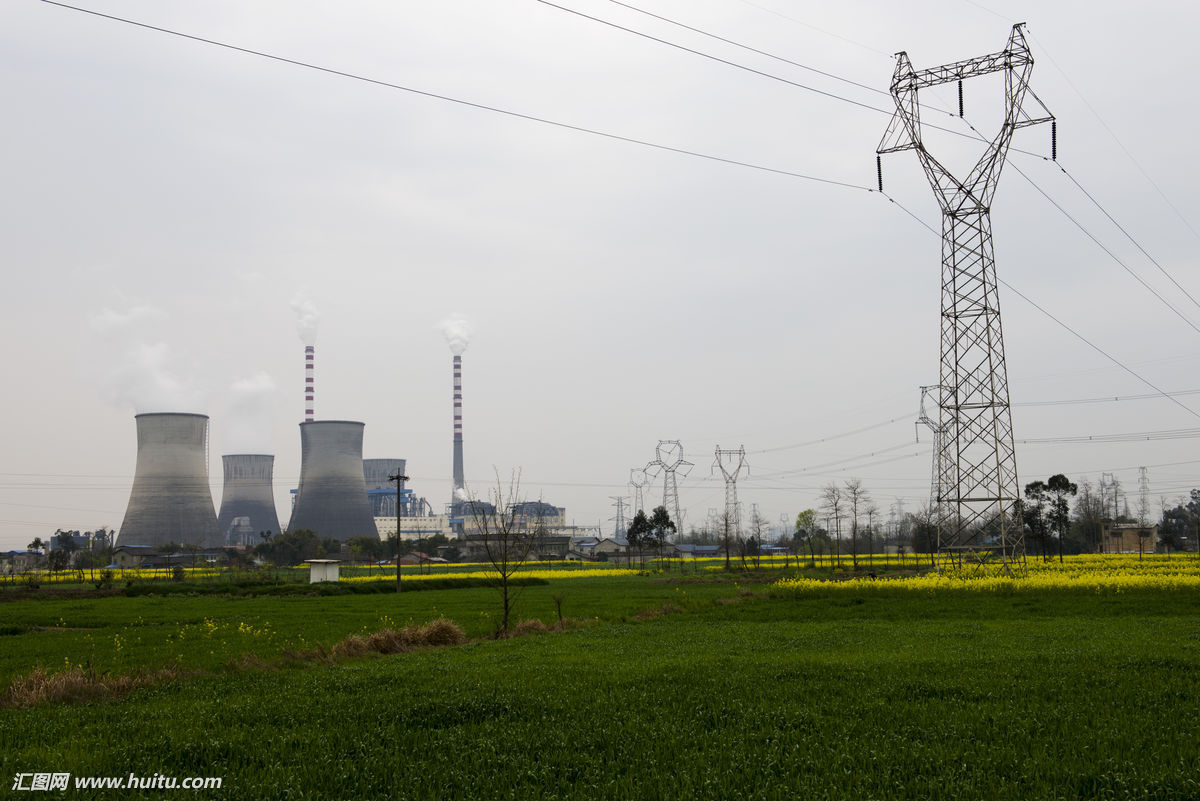dust: (122, 326, 210, 433), (268, 268, 340, 364), (417, 287, 492, 367)
